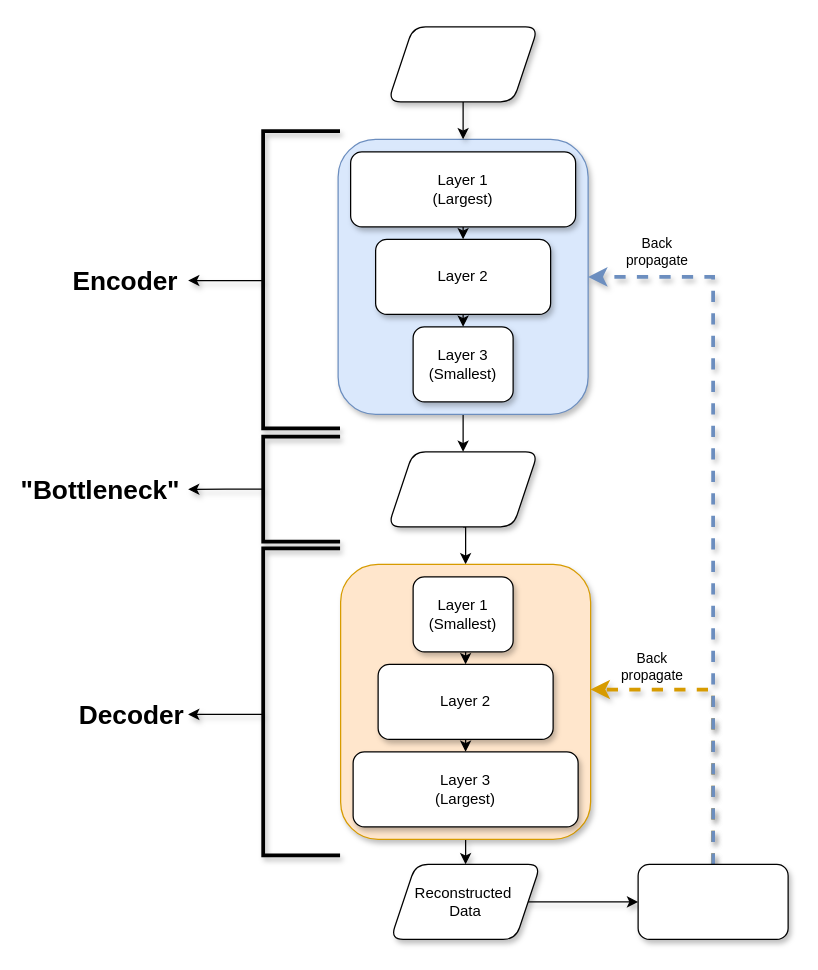
This 818x970 diagram has some shape labels left out. Each missing label, with the centre of its shape:
Input Data: point (464, 66)
Latent Space Representation: point (464, 491)
Reconstruction Loss: point (714, 903)
